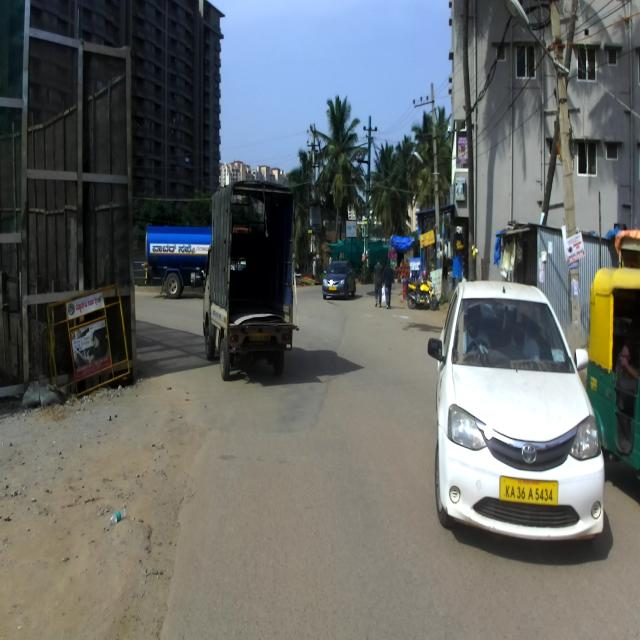barrier ahead at: (50, 287, 133, 402)
car ahead at: (429, 269, 607, 556)
truck ahead at: (204, 176, 298, 377)
